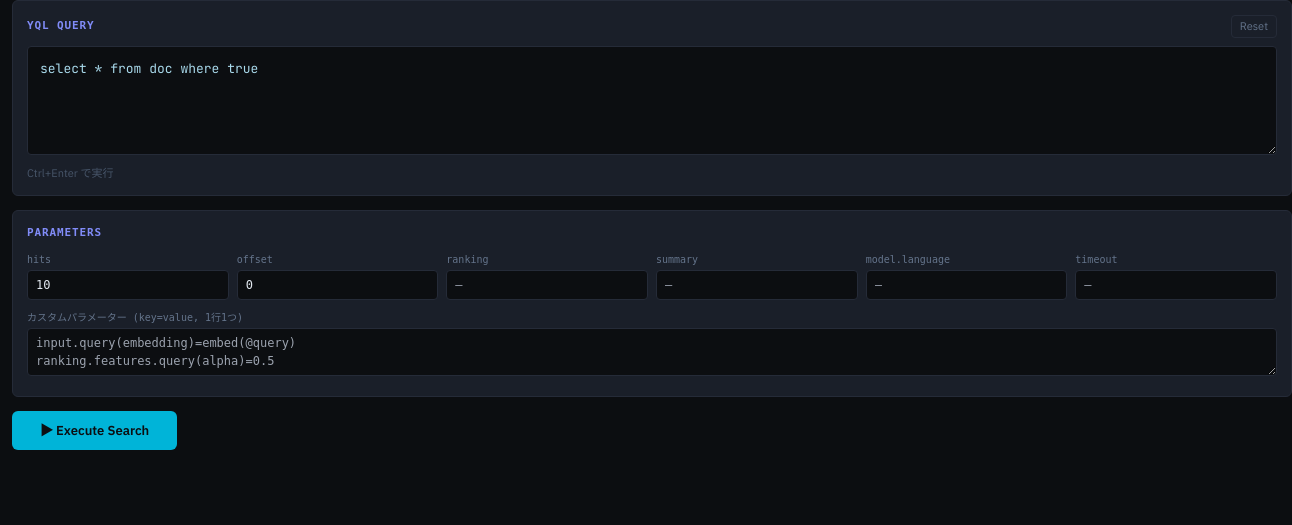
Test case: SearchPanel › エラーレスポンス時にエラーメッセージが表示される
Click the button "▶ Execute Search" at point(95, 430), box [12,411,177,450]
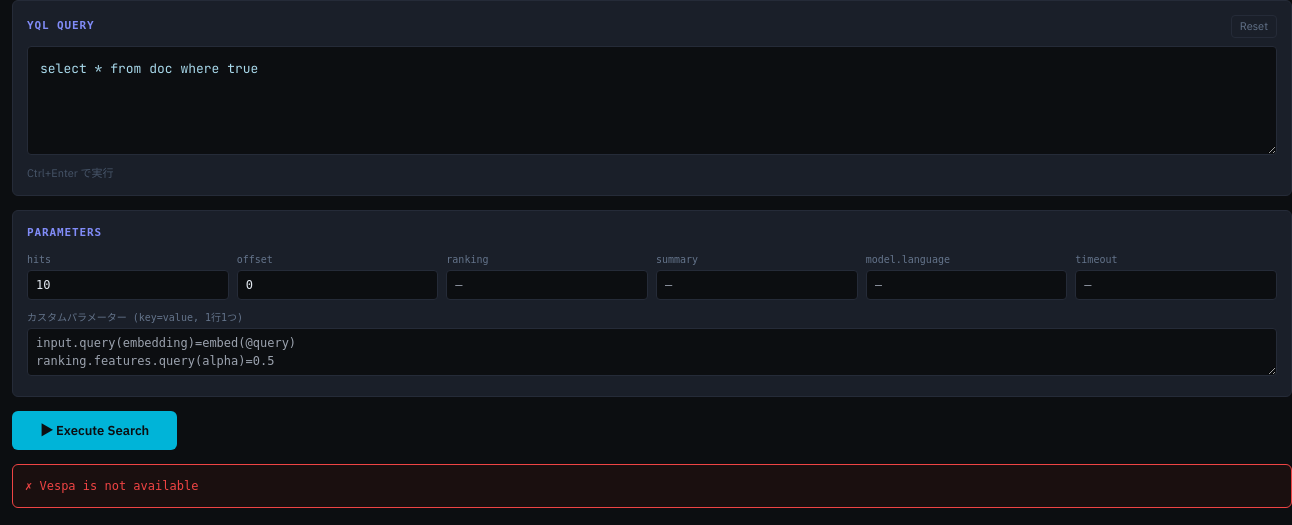
Result: the text "✗ Vespa is not available" is shown at [12,464,1291,508]
